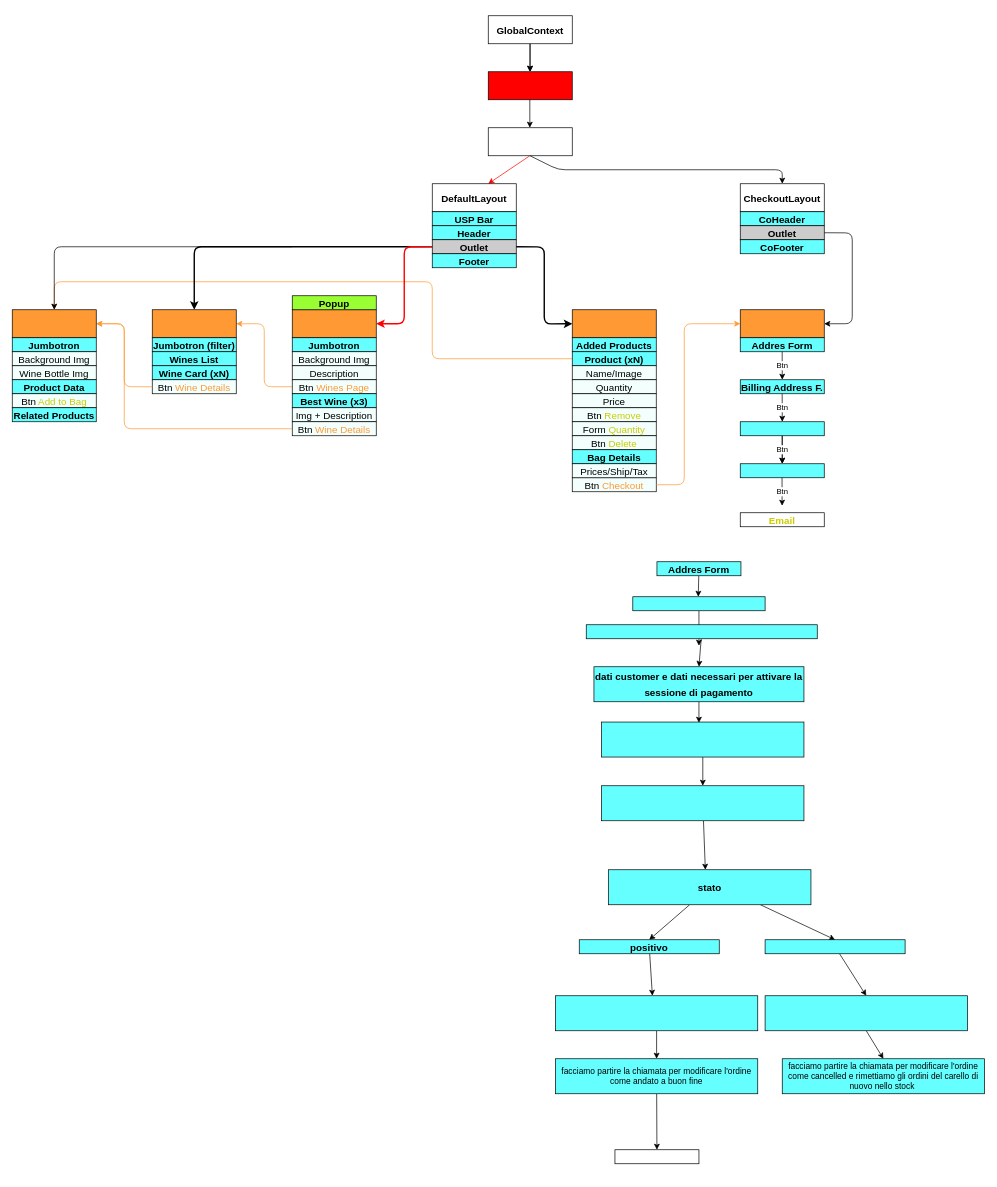
Some shapes in this 997 by 1187 pixel diagram are drawn without their labels. Here are the shapes that lost their labels. From the top down, the box of each, then its label:
(488, 71, 572, 100): App.js
(488, 127, 572, 156): Routing
(12, 309, 96, 338): Details Page
(152, 309, 236, 338): Wines Page
(292, 309, 376, 338): Homepage
(572, 309, 656, 338): Shopping Bag Page
(740, 309, 824, 338): Checkout Page
(740, 421, 824, 436): Payment Form
(740, 463, 824, 478): Recap
(632, 596, 765, 611): compiliamo stripes
(586, 624, 817, 639): aggiorniamo lo stock per evitare overbooking
(601, 721, 804, 757): collegamento al fe con la sessione di pagamento
(601, 785, 804, 821): sessione di pagamento
(764, 939, 905, 954): negativo
(555, 995, 758, 1031): reindirizzamento alla pagina succes
(764, 995, 967, 1031): reindirizzamento alla pagina cancel
(614, 1149, 699, 1164): inviamo l'email
